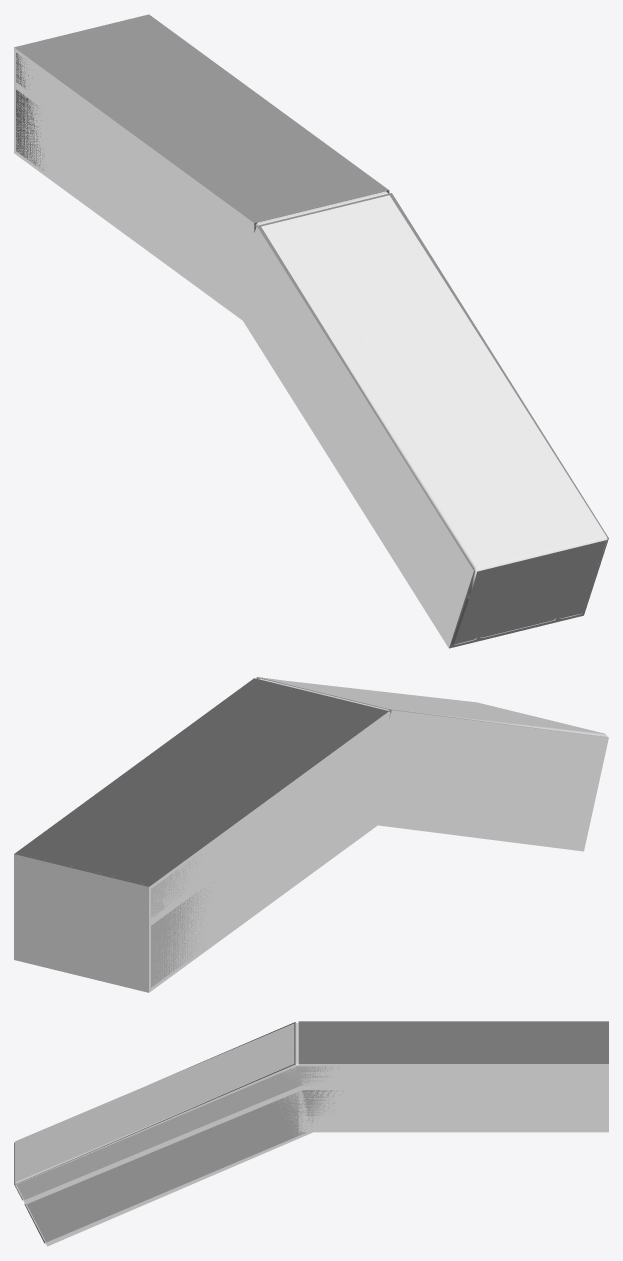
The model's file is SM_LightSupport_Angle_01a.fbx.
3 views of the same model, one above another, from view 1: azimuth 30°, elevation 25°; view 2: azimuth 150°, elevation 25°; view 3: azimuth 270°, elevation 25° (orthographic). The views are drawn at different scales.
Parts seen in each view (by area): view 1: SM_LightSupport_Angle_01a_ConvexHulls, SM_LightSupport_Angle_01a; view 2: SM_LightSupport_Angle_01a_ConvexHulls, SM_LightSupport_Angle_01a; view 3: SM_LightSupport_Angle_01a_ConvexHulls, SM_LightSupport_Angle_01a.
Boxes of the visible parts, left/top/right/bottom form: SM_LightSupport_Angle_01a_ConvexHulls: left=14, top=14, right=608, bottom=648; SM_LightSupport_Angle_01a: left=16, top=53, right=607, bottom=645; SM_LightSupport_Angle_01a_ConvexHulls: left=14, top=677, right=608, bottom=992; SM_LightSupport_Angle_01a: left=151, top=678, right=607, bottom=987; SM_LightSupport_Angle_01a_ConvexHulls: left=15, top=1021, right=608, bottom=1246; SM_LightSupport_Angle_01a: left=14, top=1022, right=346, bottom=1243.
Bounding box in the file's own units: 20 × 118 × 40.03.
2 materials, 1 textured.
